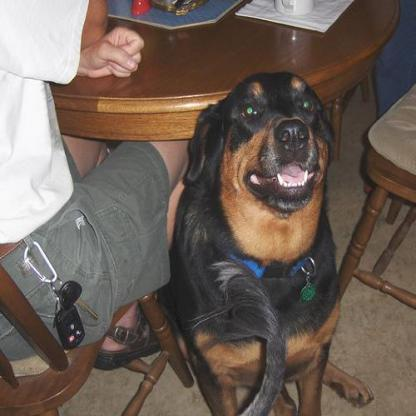Rottweiler: (170, 67, 374, 413)
